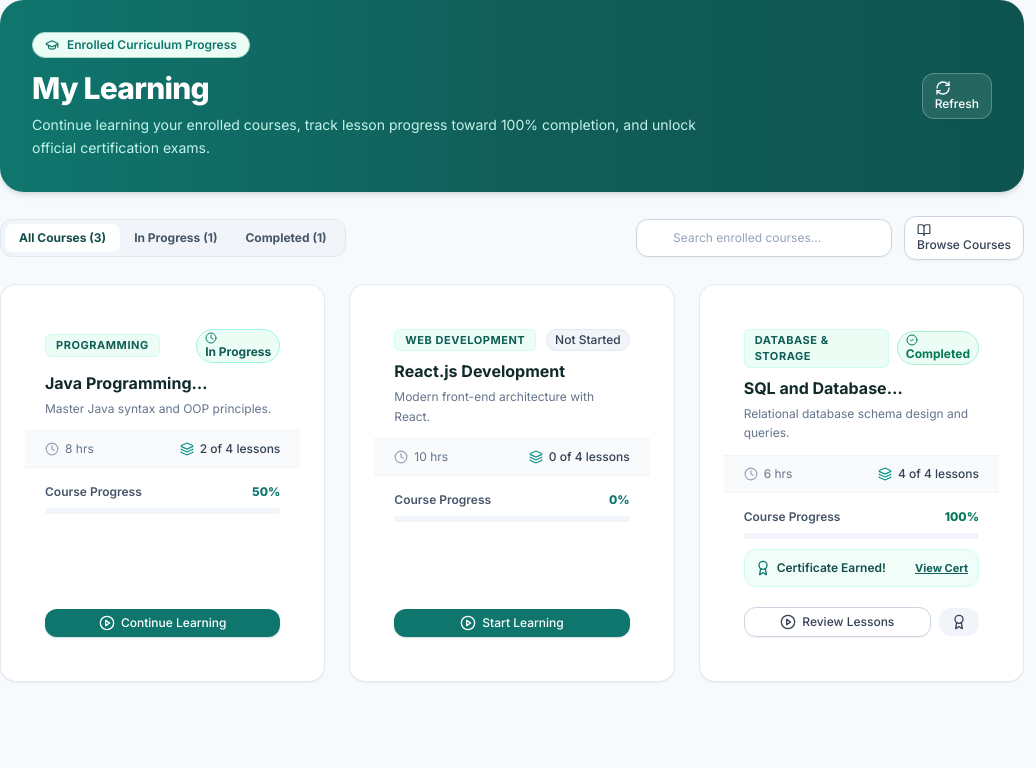
MyLearningPage › filters courses by status tab
The image size is (1036, 768).
Expected: the heading "Java Programming Fundamentals" is shown, [45,372,192,416]
Note: Click "Completed" tab
Click the button "Completed (1)": (286, 238) [231,224,341,252]
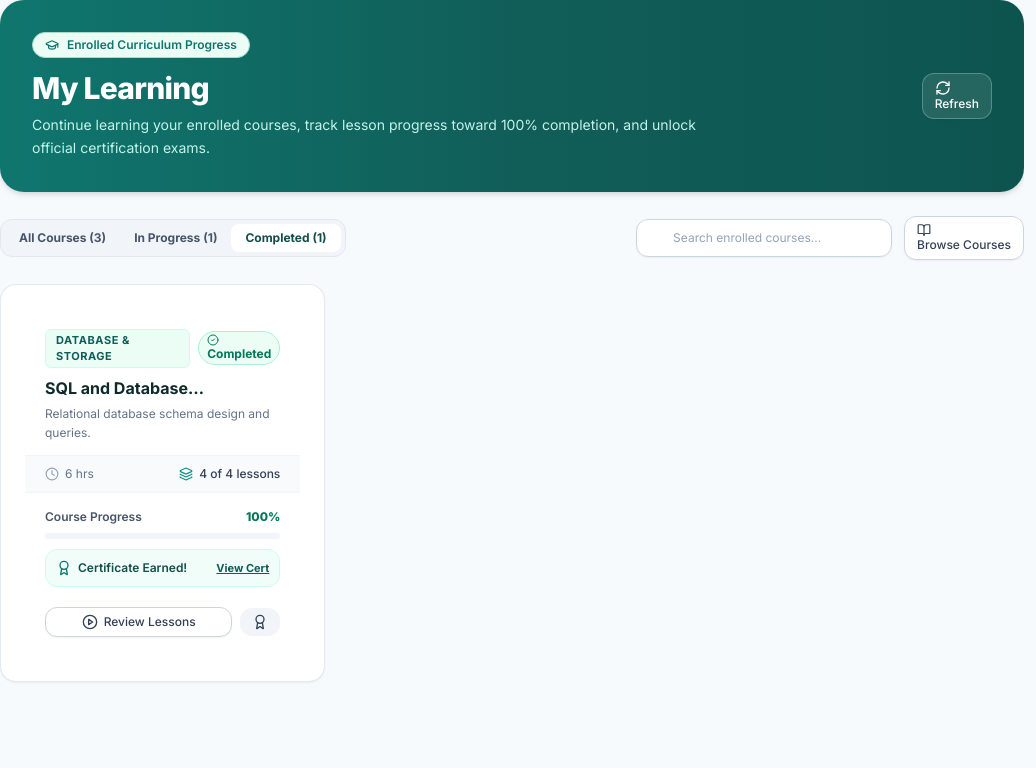
Expected: the heading "SQL and Database Management" is shown, [45,378,188,422]
Result: the heading "Java Programming Fundamentals" is gone
Result: the heading "React.js Development" is gone
Note: Click "In Progress" tab
Click the button "In Progress (1)": (176, 238) [120,224,231,252]
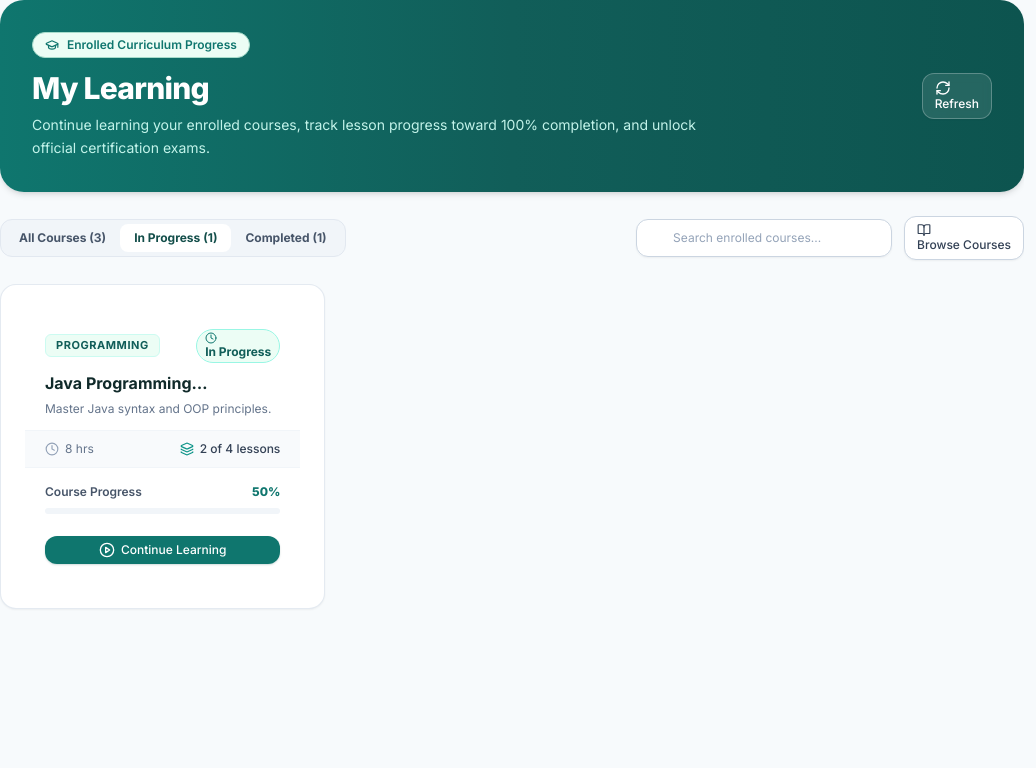
Result: the heading "Java Programming Fundamentals" is shown at [45,372,192,416]
Result: the heading "SQL and Database Management" is gone
